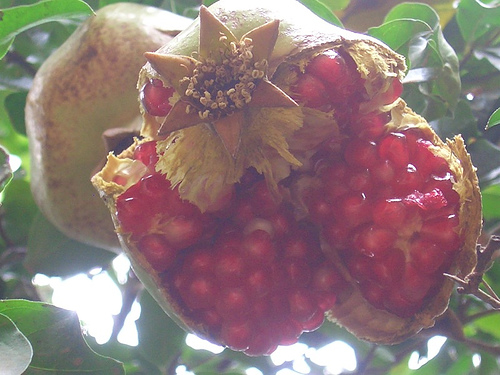pomogranate: (89, 0, 483, 358), (23, 0, 195, 255)
